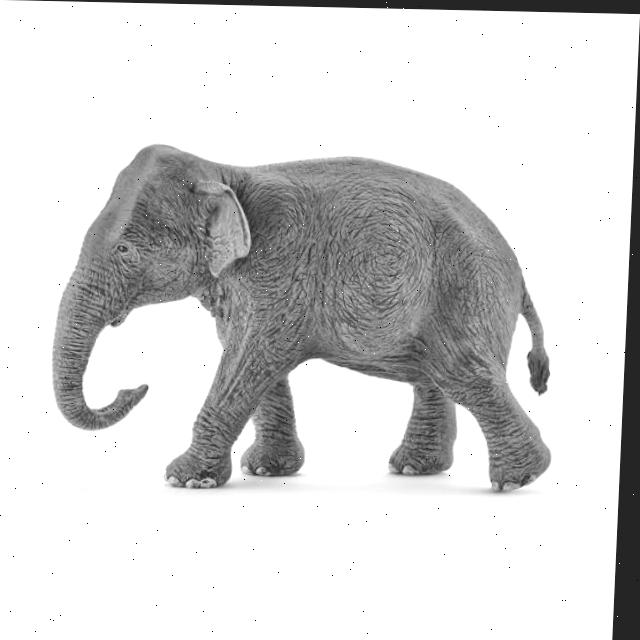Bear: (46, 140, 565, 497)
